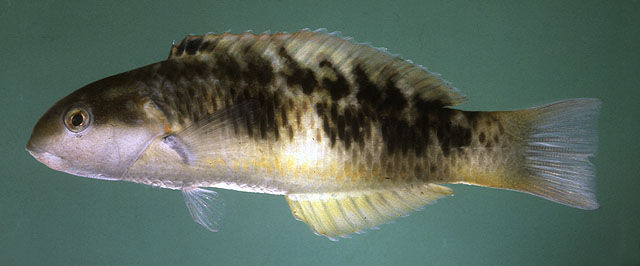fish: (24, 27, 604, 242)
